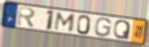0: (76, 14, 93, 36)
1: (46, 9, 55, 32)
G: (94, 17, 113, 38)
M: (53, 11, 78, 33)
Q: (113, 19, 132, 41)
R: (17, 6, 38, 30)
